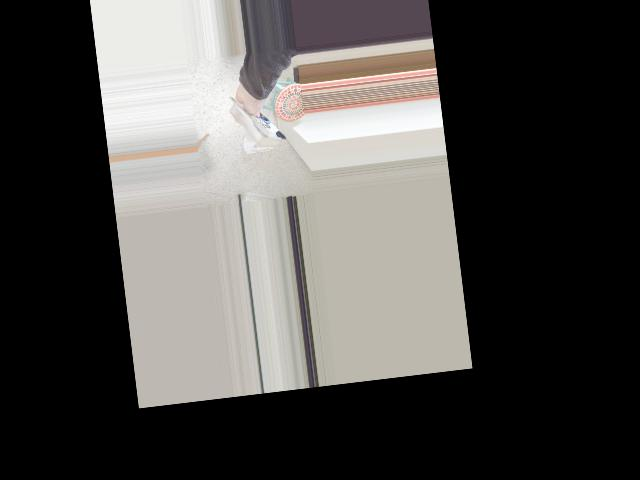cheese: (220, 79, 296, 161)
